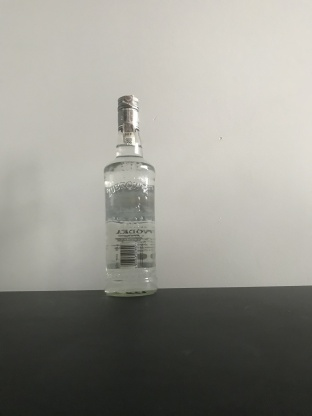nakretka: (115, 92, 141, 131)
